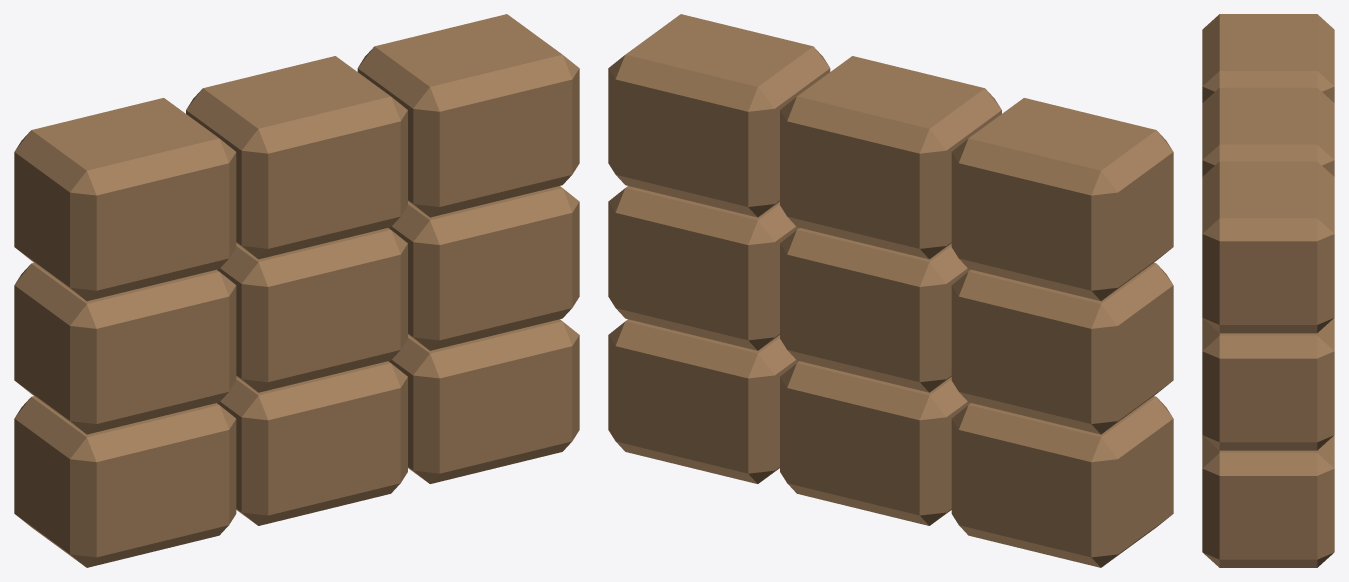
File: CC_SoilWall.fbx
3 renders of one model, left to right at view 1: azimuth 30°, elevation 25°; view 2: azimuth 150°, elevation 25°; view 3: azimuth 270°, elevation 25°, orthographic. The views are drawn at different scales.
Visible parts, largest first — view 1: Earth block.006, Earth block.007, Earth block.008, Earth block.003, Earth block, Earth block.002, Earth block.005, Earth block.001, Earth block.004; view 2: Earth block.006, Earth block.007, Earth block.008, Earth block.003, Earth block, Earth block.002, Earth block.005, Earth block.001, Earth block.004; view 3: Earth block.008, Earth block.002, Earth block.005, Earth block.007, Earth block.006.
Boxes of the visible parts, left/top/right/bottom form: Earth block.006: left=14, top=98, right=236, bottom=301; Earth block.007: left=186, top=56, right=407, bottom=259; Earth block.008: left=357, top=14, right=579, bottom=217; Earth block.003: left=14, top=263, right=236, bottom=434; Earth block: left=14, top=396, right=236, bottom=567; Earth block.002: left=388, top=319, right=579, bottom=483; Earth block.005: left=388, top=186, right=579, bottom=350; Earth block.001: left=217, top=361, right=407, bottom=525; Earth block.004: left=217, top=228, right=407, bottom=392; Earth block.006: left=951, top=98, right=1173, bottom=301; Earth block.007: left=780, top=56, right=1001, bottom=259; Earth block.008: left=608, top=14, right=830, bottom=217; Earth block.003: left=951, top=263, right=1173, bottom=434; Earth block: left=951, top=396, right=1173, bottom=567; Earth block.002: left=608, top=319, right=799, bottom=483; Earth block.005: left=608, top=186, right=799, bottom=350; Earth block.001: left=780, top=361, right=970, bottom=525; Earth block.004: left=780, top=228, right=970, bottom=392; Earth block.008: left=1202, top=161, right=1334, bottom=333; Earth block.002: left=1202, top=435, right=1334, bottom=567; Earth block.005: left=1202, top=318, right=1334, bottom=450; Earth block.007: left=1202, top=87, right=1334, bottom=176; Earth block.006: left=1202, top=14, right=1334, bottom=102.
Size of the model in its own units: 1.96 by 1.46 by 0.5.
